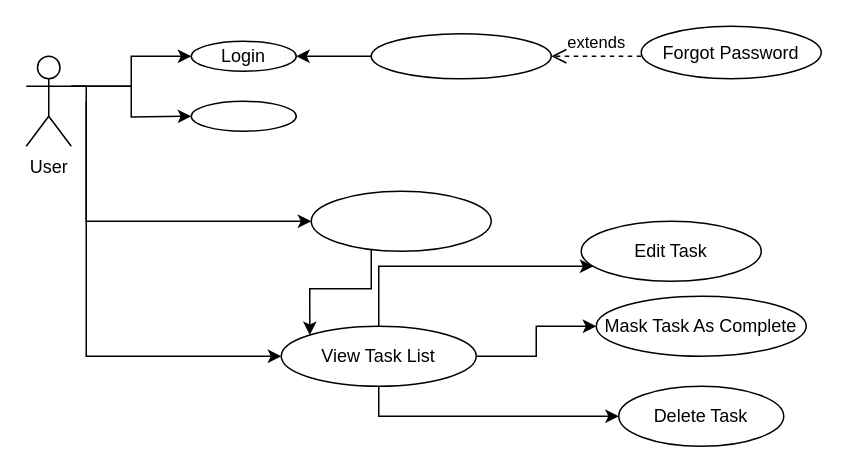
Some shapes in this 848 by 473 pixel diagram are drawn without their labels. Here are the shapes that lost their labels. From the top down, the box of each, then its label:
(370, 32, 551, 79): Login by Password
(190, 100, 296, 131): Sign Up
(310, 190, 491, 251): Create Task
